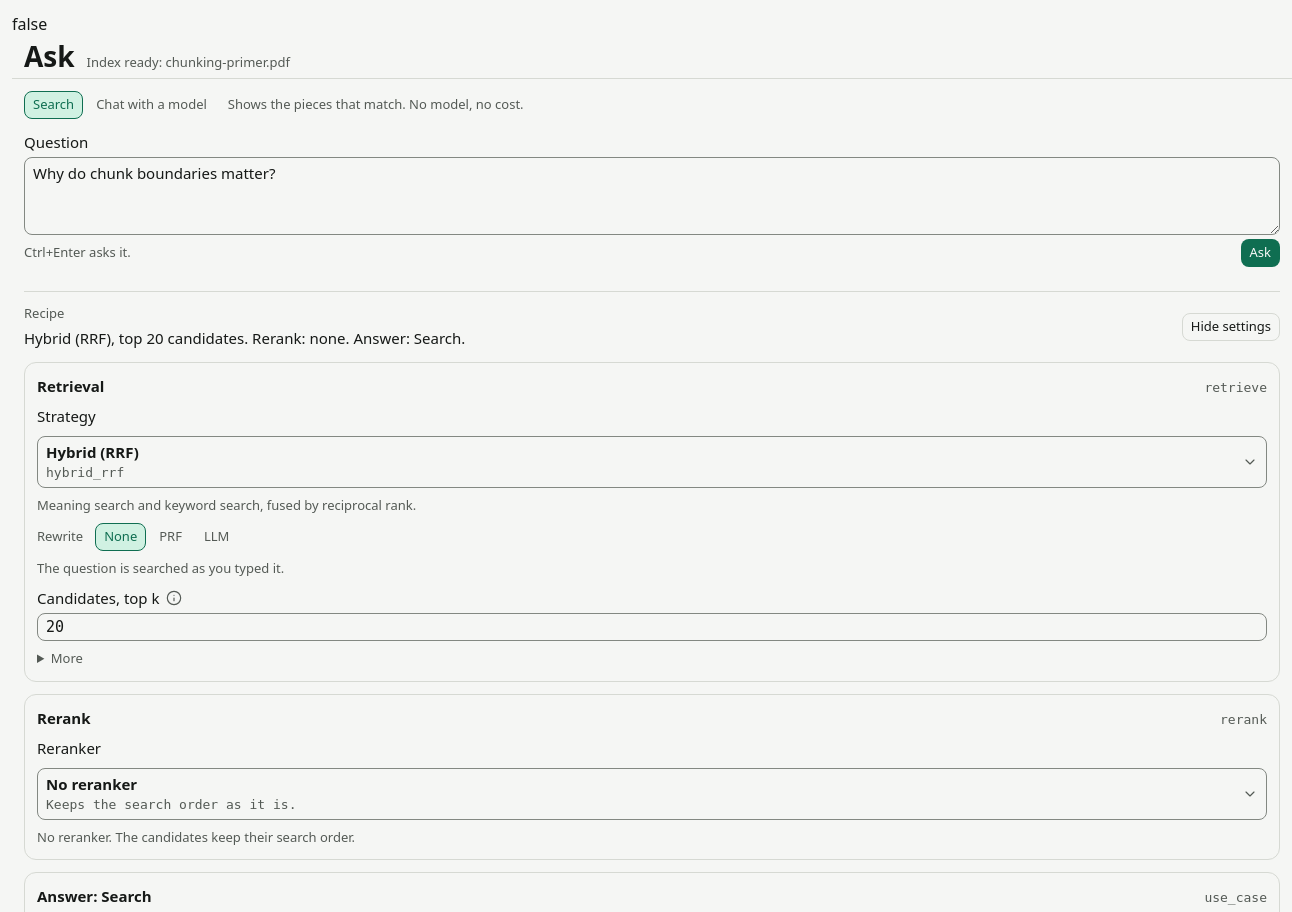
the recipe line and the settings toggle › settings are open on a fresh pipeline and fold when Ask is pressed
Expected: the button "Hide settings" is shown, x1=1182 y1=313 x2=1280 y2=341
Expected: the button "No reranker Keeps the search order as it is." is shown, x1=37 y1=768 x2=1267 y2=820
Click the button "Ask" at (1260, 253), box x1=1240 y1=239 x2=1280 y2=267
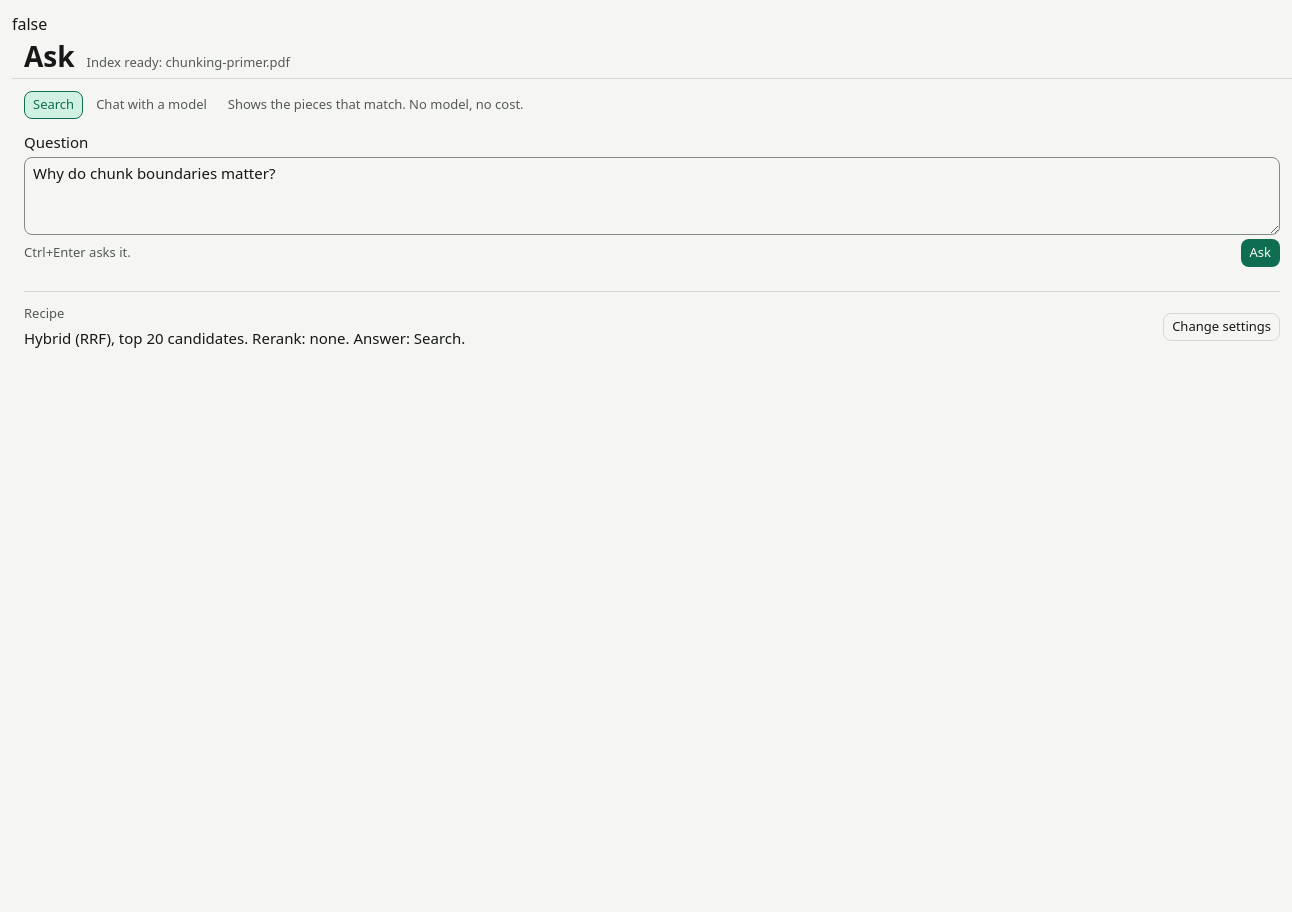
Expected: the button "Change settings" is shown
Expected: the label "Reranker" is gone
Click the button "Change settings" at (1222, 327), box x1=1163 y1=313 x2=1280 y2=341
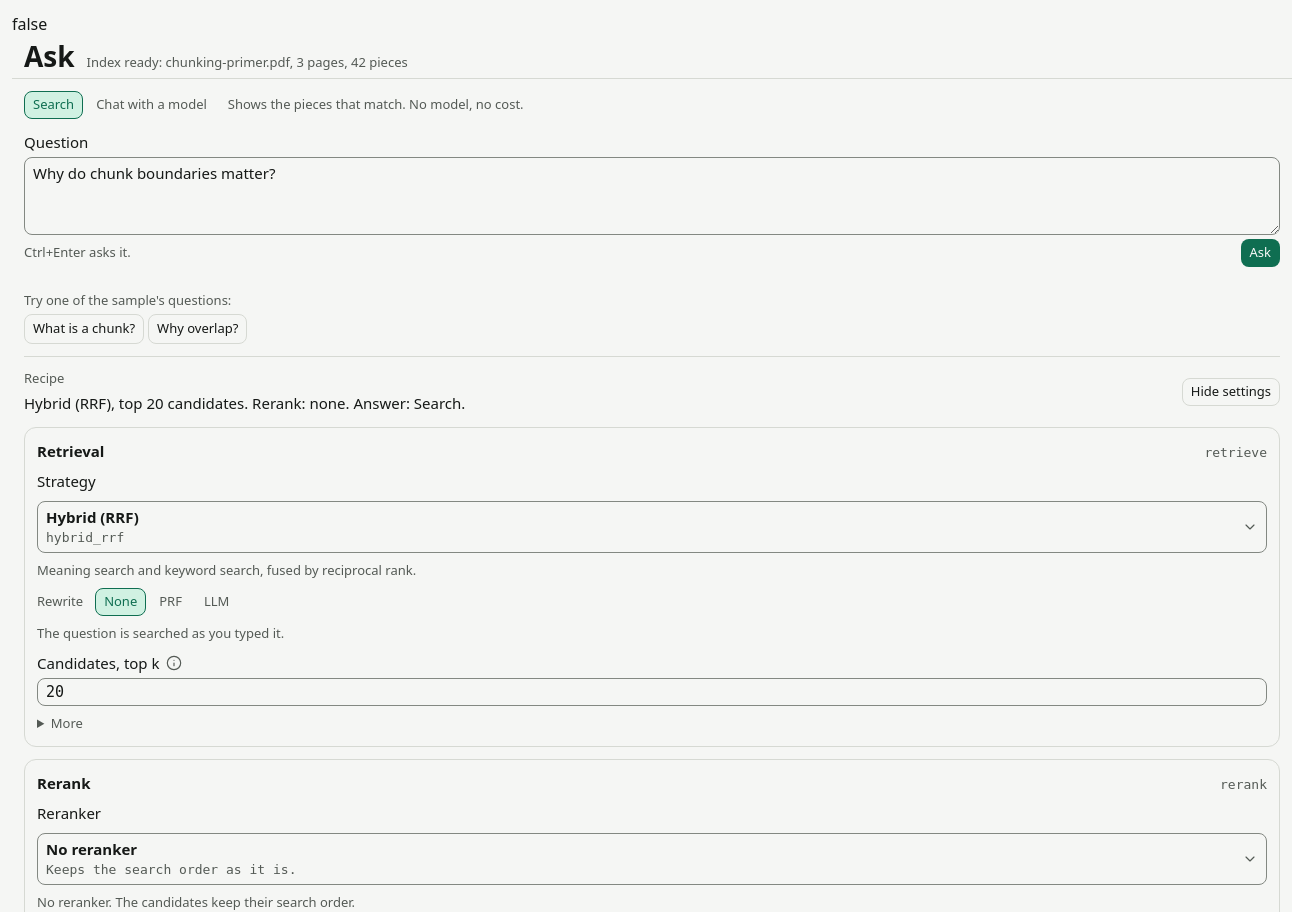
Expected: the button "No reranker Keeps the search order as it is." is shown, x1=37 y1=833 x2=1267 y2=885
